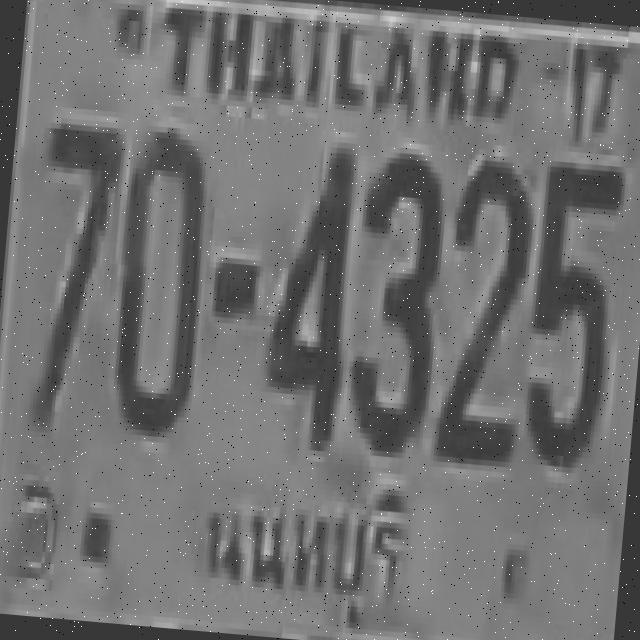0: (105, 124, 213, 433)
2: (432, 155, 534, 464)
3: (340, 148, 446, 452)
4: (258, 134, 360, 443)
5: (518, 155, 624, 464)
7: (22, 117, 121, 426)
Nonthaburi: (197, 459, 405, 625)
